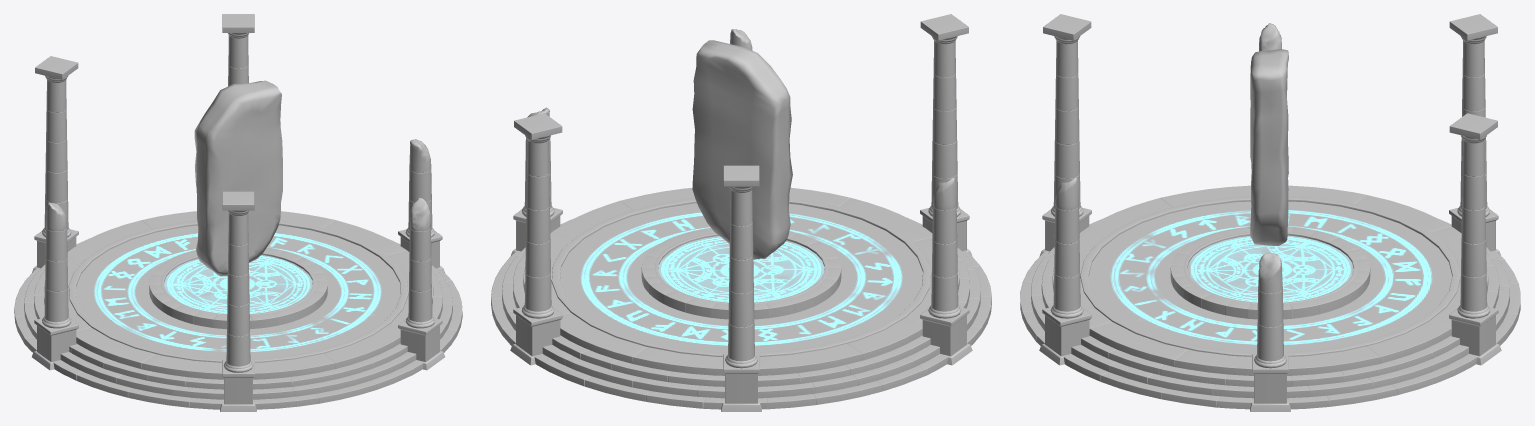
3 renders of one model, left to right at view 1: azimuth 30°, elevation 25°; view 2: azimuth 150°, elevation 25°; view 3: azimuth 270°, elevation 25°, orthographic. The views are drawn at different scales.
Visible parts, largest first — view 1: plate_large, stone, plate_small, column_pillars_0.001, column, column_pillars_0.002, column_pillars_0.004, polySurface6_platform_0.001, column_pillars_0.003, polySurface1_platform_0.001, base_pillars_0.002, base_pillars_0.004 (+33 smaller); view 2: plate_large, stone, plate_small, column, column_pillars_0.005, column_pillars_0.001, column_pillars_0.004, polySurface22_platform_0.001, polySurface20_platform_0.001, base_pillars_0.004, base_pillars_0.005, polySurface21_platform_0.001 (+34 smaller); view 3: plate_large, plate_small, stone, column_pillars_0.005, column_pillars_0.001, column_pillars_0.002, column_pillars_0.003, column, polySurface7_platform_0.001, base_pillars_0.002, base_pillars_0.005, polySurface18_platform_0.001 (+38 smaller).
Boxes of the visible parts, box(x1,y1,x2,y2) form: plate_large: box(68, 220, 408, 362); stone: box(194, 80, 282, 276); plate_small: box(161, 252, 315, 315); column_pillars_0.001: box(223, 210, 253, 372); column: box(42, 75, 71, 237); column_pillars_0.002: box(405, 197, 434, 328); column_pillars_0.004: box(42, 202, 71, 328); polySurface6_platform_0.001: box(323, 323, 400, 368); column_pillars_0.003: box(405, 139, 434, 237); polySurface1_platform_0.001: box(76, 327, 154, 369); base_pillars_0.002: box(398, 318, 444, 370); base_pillars_0.004: box(32, 318, 78, 370); plate_large: box(551, 198, 931, 356); stone: box(692, 40, 792, 259); plate_small: box(654, 233, 828, 303); column: box(725, 187, 757, 368); column_pillars_0.005: box(522, 135, 554, 318); column_pillars_0.001: box(928, 36, 960, 216); column_pillars_0.004: box(928, 178, 961, 318); polySurface22_platform_0.001: box(758, 343, 862, 375); polySurface20_platform_0.001: box(560, 313, 645, 363); base_pillars_0.004: box(920, 307, 972, 365); base_pillars_0.005: box(510, 307, 562, 365); polySurface21_platform_0.001: box(632, 347, 724, 375); plate_large: box(1080, 196, 1460, 356); plate_small: box(1183, 232, 1357, 303); stone: box(1250, 49, 1288, 245); column_pillars_0.005: box(1457, 135, 1489, 318); column_pillars_0.001: box(1051, 36, 1083, 216); column_pillars_0.002: box(1050, 178, 1083, 318); column_pillars_0.003: box(1254, 252, 1286, 368); column: box(1457, 36, 1489, 216); polySurface7_platform_0.001: box(1089, 322, 1187, 366); base_pillars_0.002: box(1039, 307, 1091, 365); base_pillars_0.005: box(1449, 307, 1501, 365); polySurface18_platform_0.001: box(1287, 346, 1380, 375).
Size of the model in its own units: 11.2 by 6.11 by 10.98.
